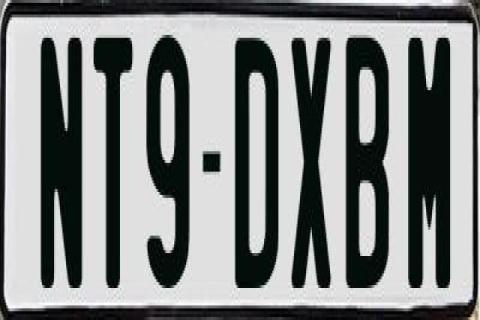0: (146, 35, 196, 303)
B: (342, 29, 386, 288)
D: (234, 38, 284, 306)
M: (408, 35, 452, 291)
N: (40, 32, 80, 288)
T: (92, 32, 132, 285)
X: (288, 38, 334, 306)
